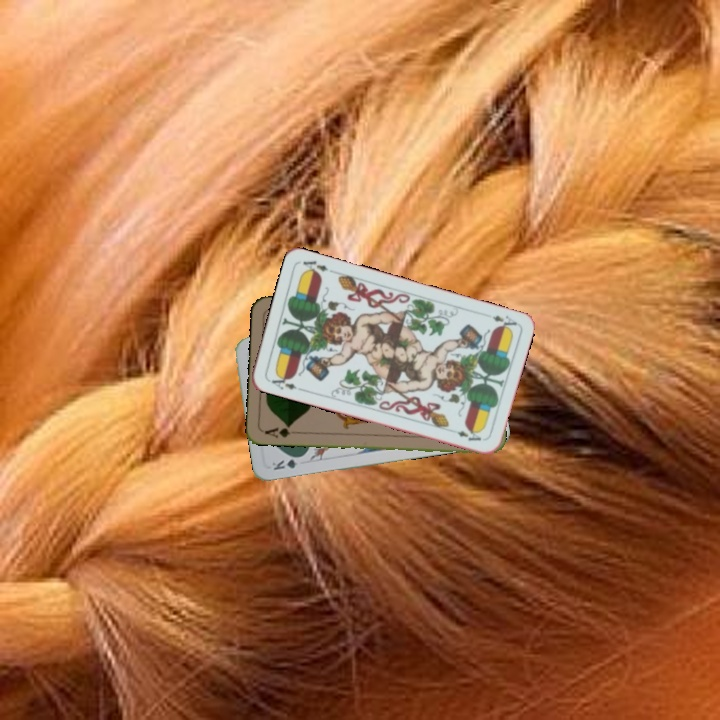EA: (265, 370, 305, 393), (488, 311, 520, 332)
GA: (261, 421, 301, 440)
GK: (268, 452, 306, 473)
